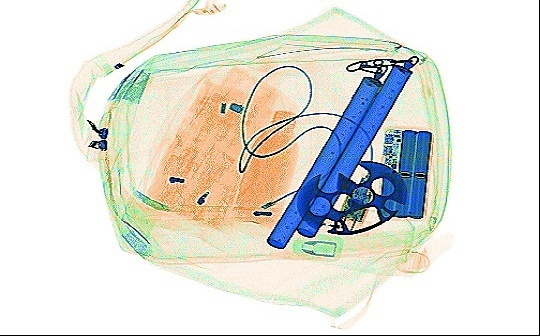powerbank: (294, 158, 408, 237), (373, 124, 436, 224)
